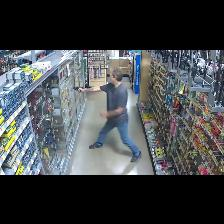person: (79, 68, 141, 162)
